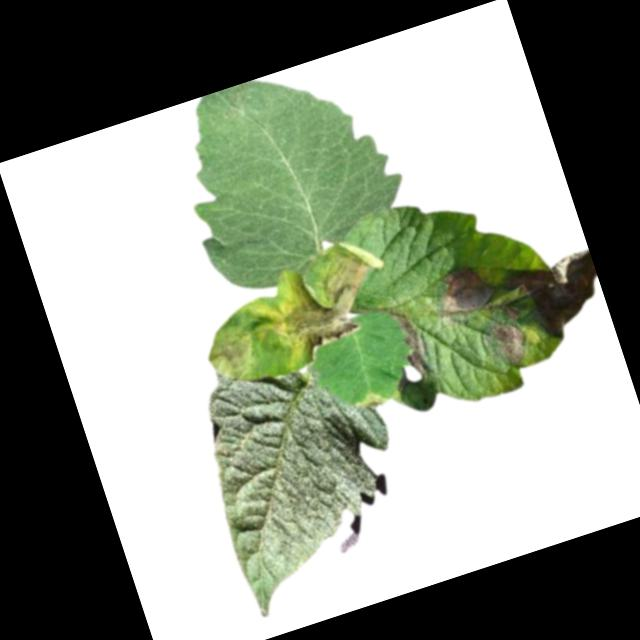Late_blight: (258, 231, 402, 357), (497, 245, 613, 354), (423, 260, 499, 325), (199, 322, 264, 388), (382, 305, 432, 385), (487, 316, 534, 374), (351, 390, 387, 412)
healthy: (183, 341, 432, 620), (157, 46, 418, 302)
